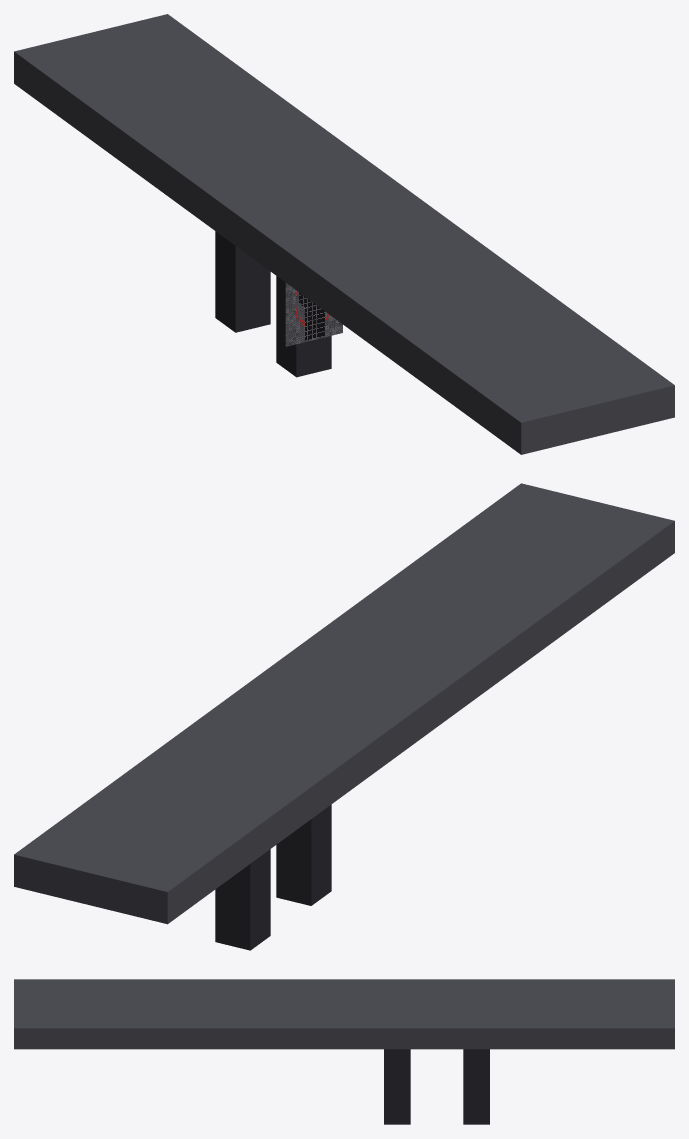
The model's file is Bruecke.glb.
3 views of the same model, one above another, from view 1: azimuth 30°, elevation 25°; view 2: azimuth 150°, elevation 25°; view 3: azimuth 270°, elevation 25° (orthographic). The views are drawn at different scales.
Visible parts, largest first — view 1: Bruecke; view 2: Bruecke; view 3: Bruecke.
Part boxes in pixels (x1,y1,x2,y2): Bruecke: (14,14,674,454); Bruecke: (14,483,674,950); Bruecke: (14,979,674,1124).
Size of the model in its own units: 7 by 7.7 by 40.
Materials: 3 (1 with a texture image).
